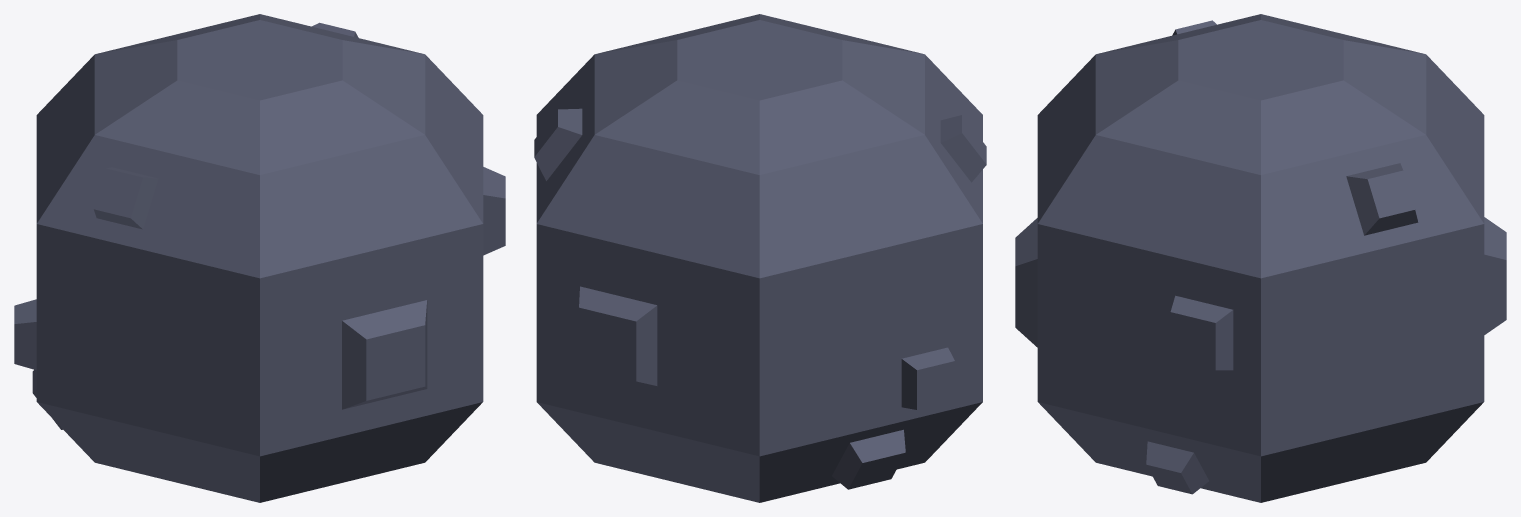
Rendered from meteor_detailed.glb.
3 renders of one model, left to right at view 1: azimuth 30°, elevation 25°; view 2: azimuth 150°, elevation 25°; view 3: azimuth 270°, elevation 25°, orthographic.
Visible parts, largest first — view 1: meteor_detailed; view 2: meteor_detailed; view 3: meteor_detailed.
Part boxes in pixels (bbox=[...]): meteor_detailed: bbox=[14, 14, 505, 502]; meteor_detailed: bbox=[534, 14, 986, 502]; meteor_detailed: bbox=[1015, 14, 1506, 502].
Bounding box in the file's own units: 0.866 × 0.735 × 0.825.
